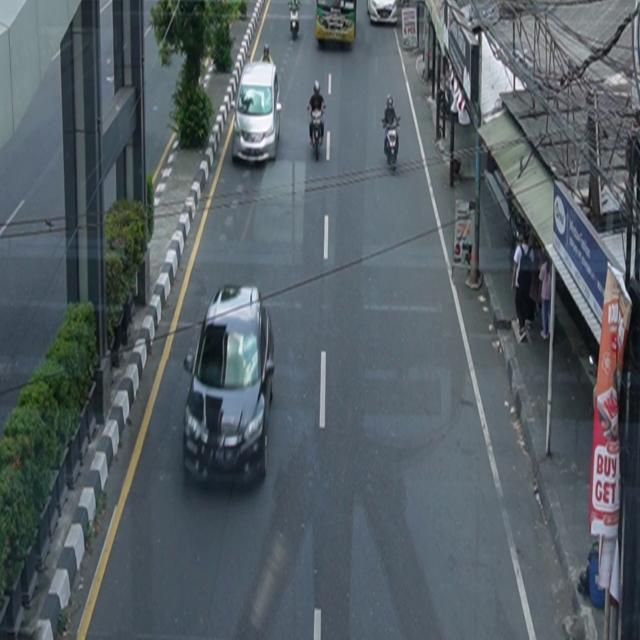bus: (316, 1, 357, 48)
car: (184, 284, 276, 489), (233, 59, 282, 165)
